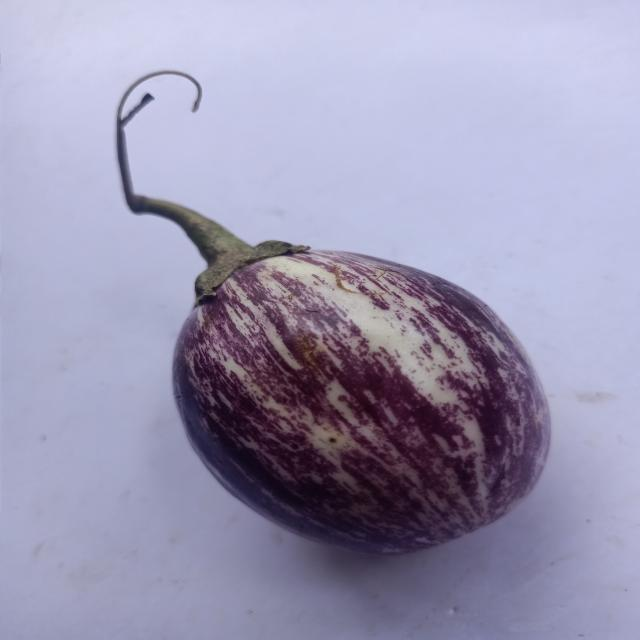Eggplant: (41, 50, 558, 562)
